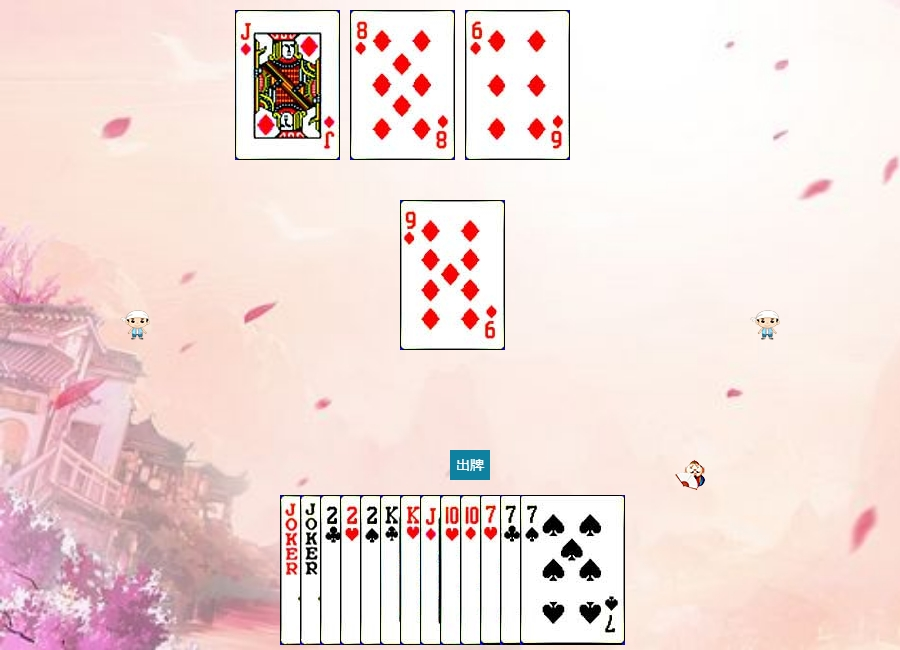10~1: (460, 495, 565, 645)
10~3: (440, 495, 545, 645)
11~1: (235, 10, 340, 160), (420, 495, 525, 645)
13~2: (380, 495, 485, 645)
13~3: (400, 495, 505, 645)
15~2: (320, 495, 425, 645)
15~3: (340, 495, 445, 645)
15~4: (360, 495, 465, 645)
17~3: (300, 495, 405, 645)
18~4: (280, 495, 385, 645)
6~1: (465, 10, 570, 160)
7~2: (500, 495, 605, 645)
7~3: (480, 495, 585, 645)
7~4: (520, 495, 625, 645)
8~1: (350, 10, 455, 160)
9~1: (400, 200, 505, 350)
